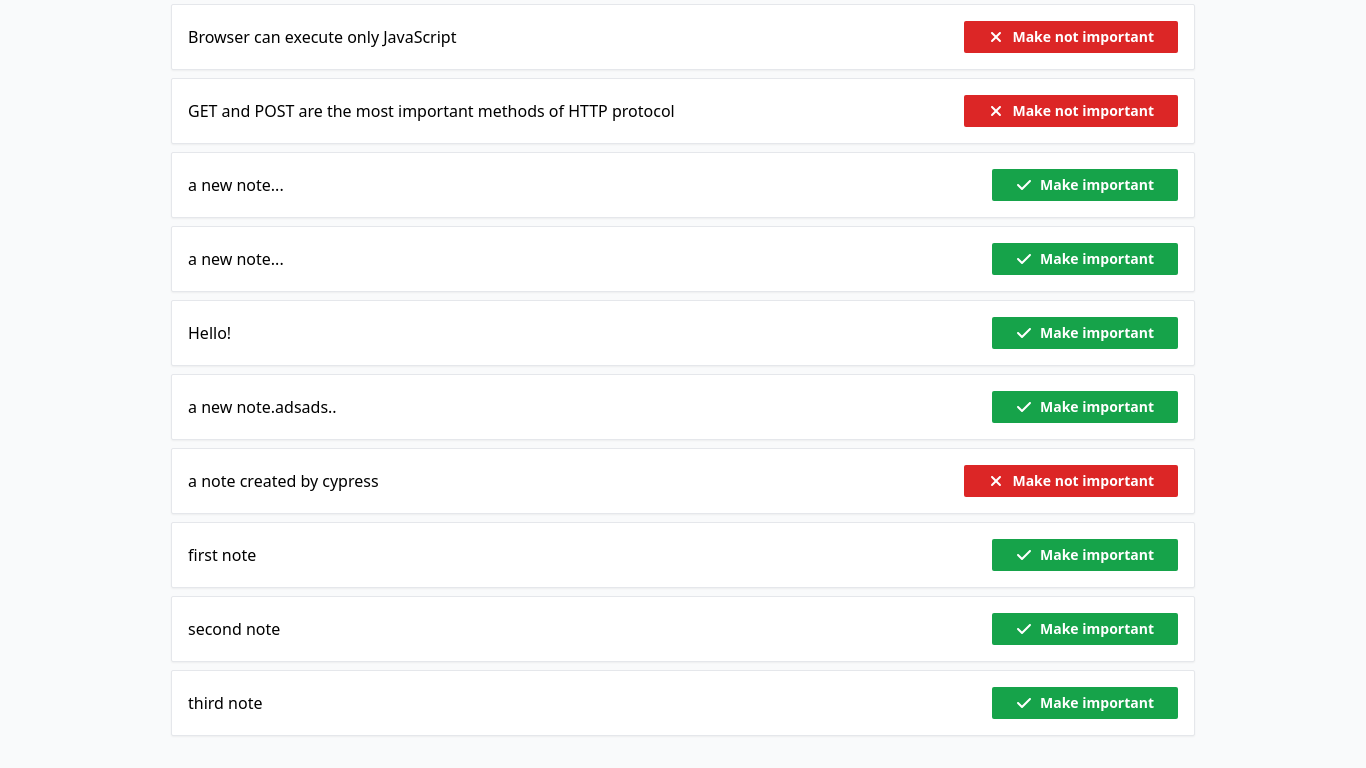
Test case: Note app › when logged in › and a note exists › can change importance of note
This screenshot has width=1366, height=768.
(page scrolled)
Click the button "Make important" in the row of "second note". click: click(1085, 629)
box: [992,613,1178,645]
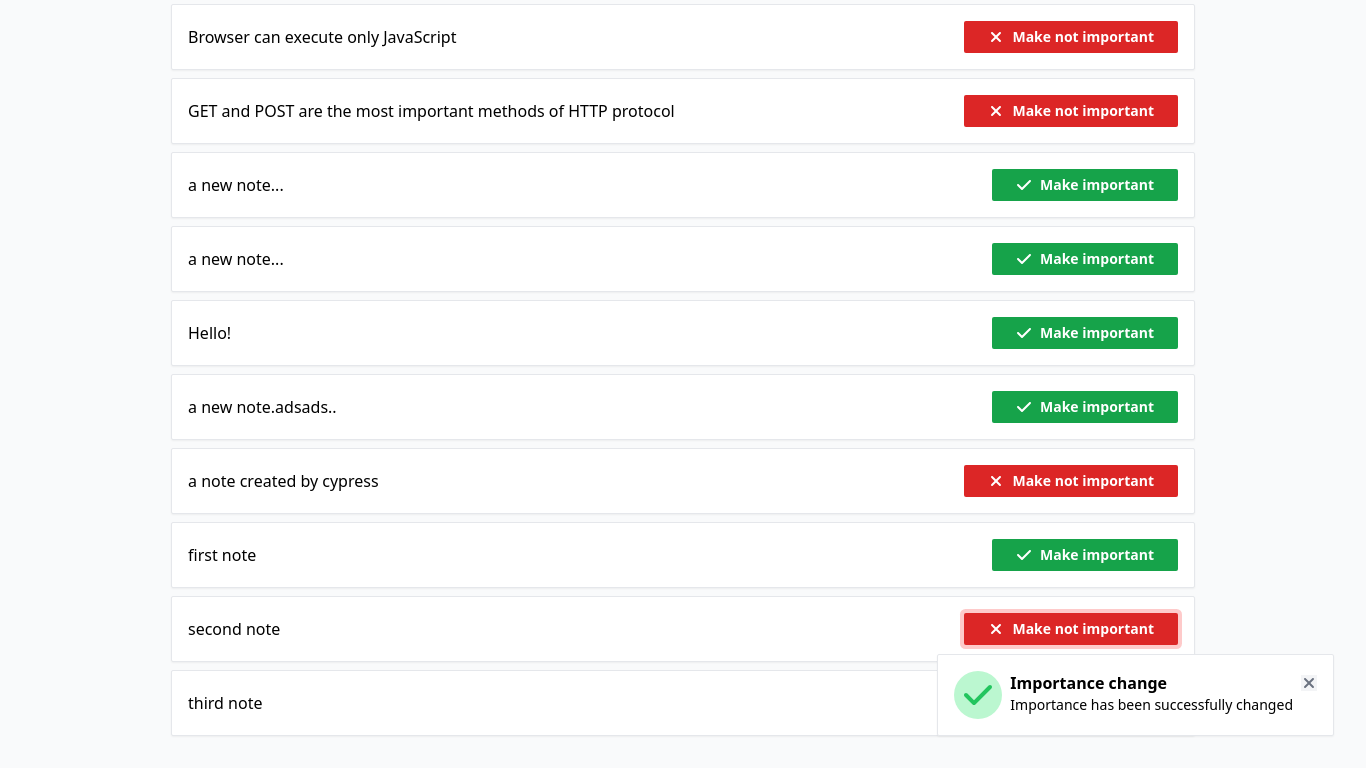
Expected: the text "Make not important" in the row of "second note" is shown, [1012,619,1154,638]
